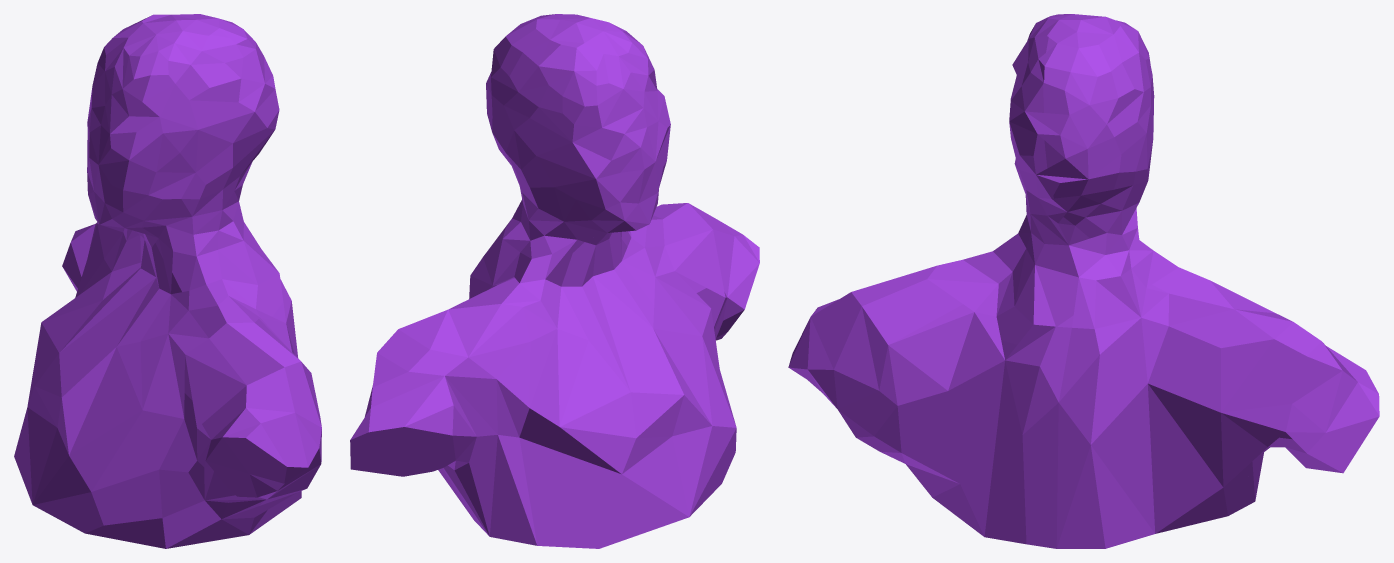
File: Statue.008_chunks.fbx
The picture shows the model from 3 angles, left to right: view 1: azimuth 30°, elevation 25°; view 2: azimuth 150°, elevation 25°; view 3: azimuth 270°, elevation 25°; orthographic projection. The views are drawn at different scales.
Parts seen in each view (by area): view 1: Statue.008_1, Statue.008_8, Statue.008_6, Statue.008_0, Statue.008_7, Statue.008_2, Statue.008_3, Statue.008_9; view 2: Statue.008_0, Statue.008_7, Statue.008_6, Statue.008_8, Statue.008_1, Statue.008_5, Statue.008_9, Statue.008_2, Statue.008_4; view 3: Statue.008_3, Statue.008_0, Statue.008_4, Statue.008_1, Statue.008_5, Statue.008_2, Statue.008_7.
Boxes of the visible parts, x1,y1,x2,y2 form: Statue.008_1: (96,34,321,496); Statue.008_8: (18,371,272,548); Statue.008_6: (36,202,178,389); Statue.008_0: (71,14,274,245); Statue.008_7: (14,234,125,467); Statue.008_2: (226,170,283,336); Statue.008_3: (251,294,321,533); Statue.008_9: (163,286,198,406); Statue.008_0: (350,14,652,444); Statue.008_7: (394,302,639,548); Statue.008_6: (530,205,679,435); Statue.008_8: (621,285,746,540); Statue.008_1: (574,14,759,302); Statue.008_5: (350,397,460,501); Statue.008_9: (624,245,711,300); Statue.008_2: (493,199,522,287); Statue.008_4: (371,241,495,392); Statue.008_3: (830,318,1118,548); Statue.008_0: (1043,14,1379,419); Statue.008_4: (1035,299,1322,459); Statue.008_1: (788,14,1060,403); Statue.008_5: (1117,383,1376,544); Statue.008_2: (937,215,1178,350); Statue.008_7: (1205,449,1267,521).
Size of the model in its own units: 187 by 343 by 383.
